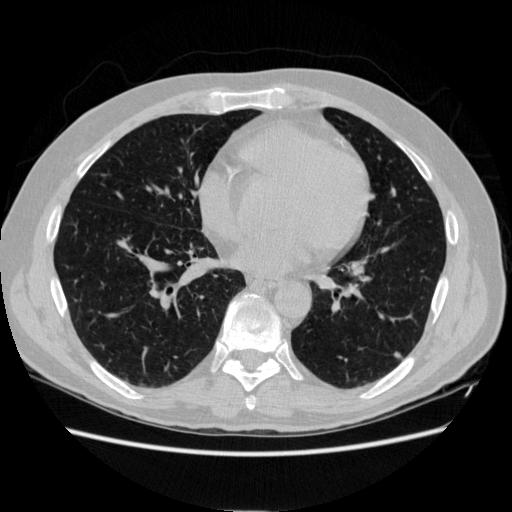nodule: (392, 350, 403, 361)
